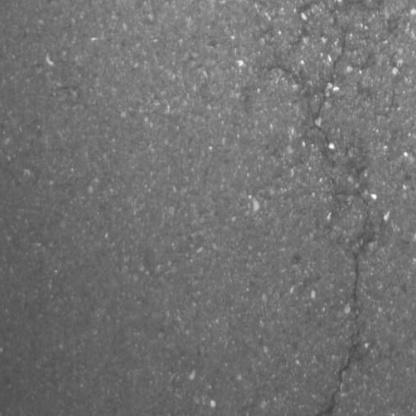Cracks: (296, 236, 376, 416)
